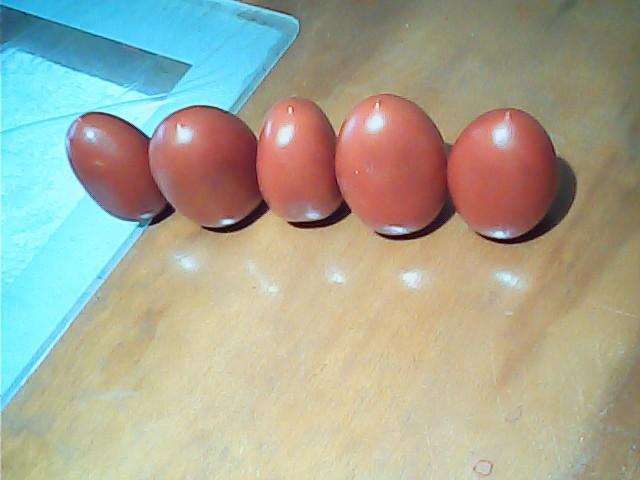maduro: (335, 93, 444, 234), (450, 106, 551, 244), (147, 107, 263, 227), (61, 110, 167, 223), (255, 95, 341, 220)
